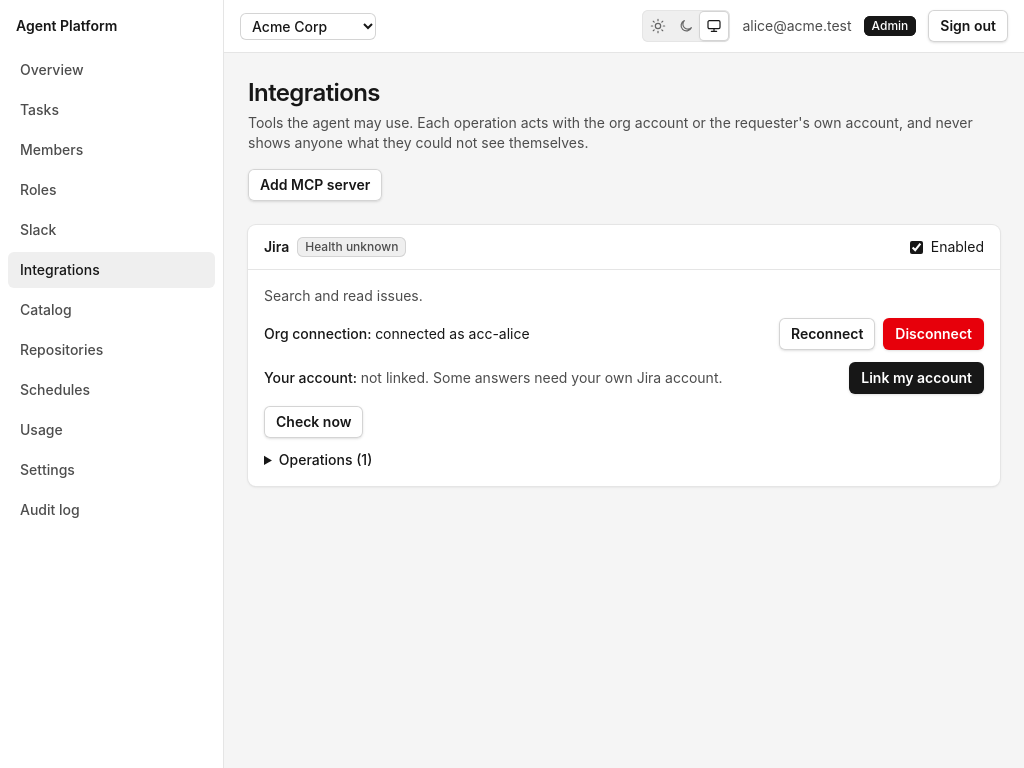
Test: Integrations page › saves and resets a credential mode override
Click the heading "Operations (1)" at [326, 460], box [279,451,372,468]
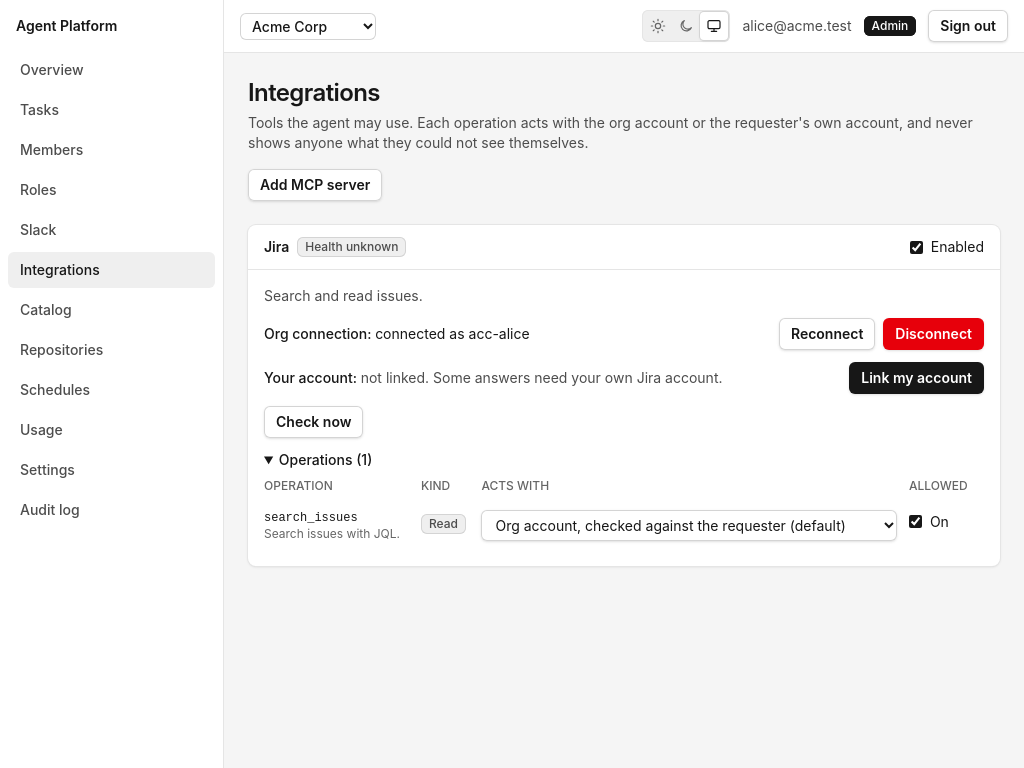
Now the dropdown named "Credential for search_issues" shows "Org account, checked against the requester (default)"
Select "Requester's own account" in the dropdown named "Credential for search_issues" at [689, 526], box [481,510,897,541]
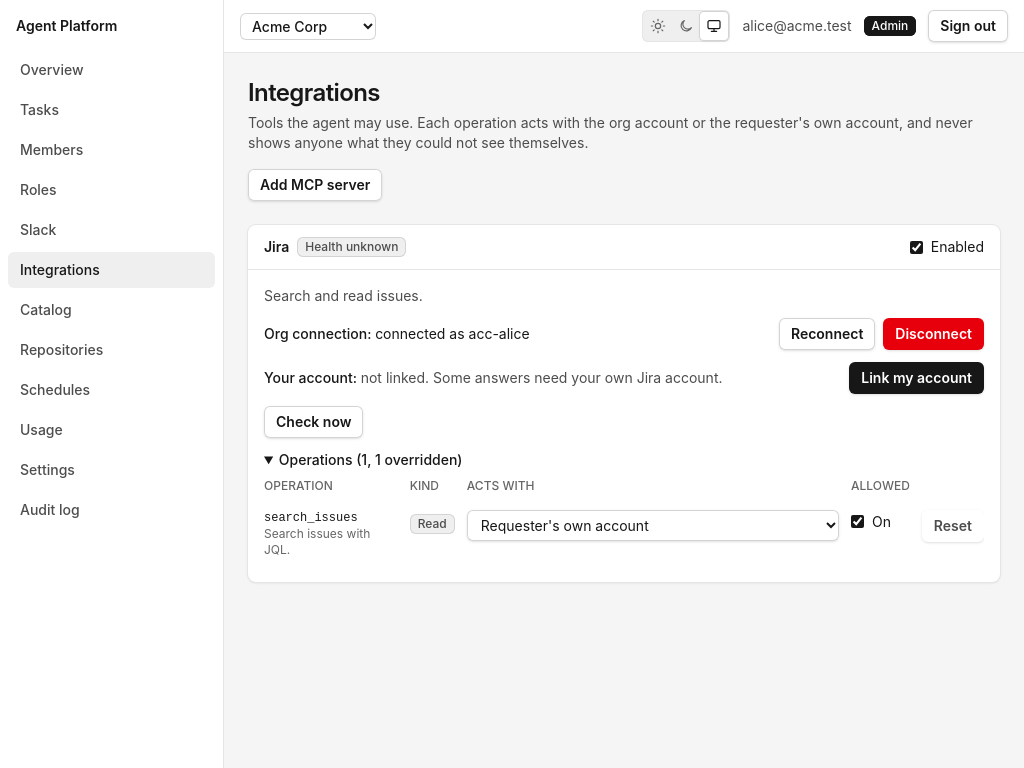
Now the heading "Operations (1, 1 overridden)" is shown, box [279,451,462,468]
Click the checkbox named "Allow search_issues" at [858, 522], box [851,515,864,528]
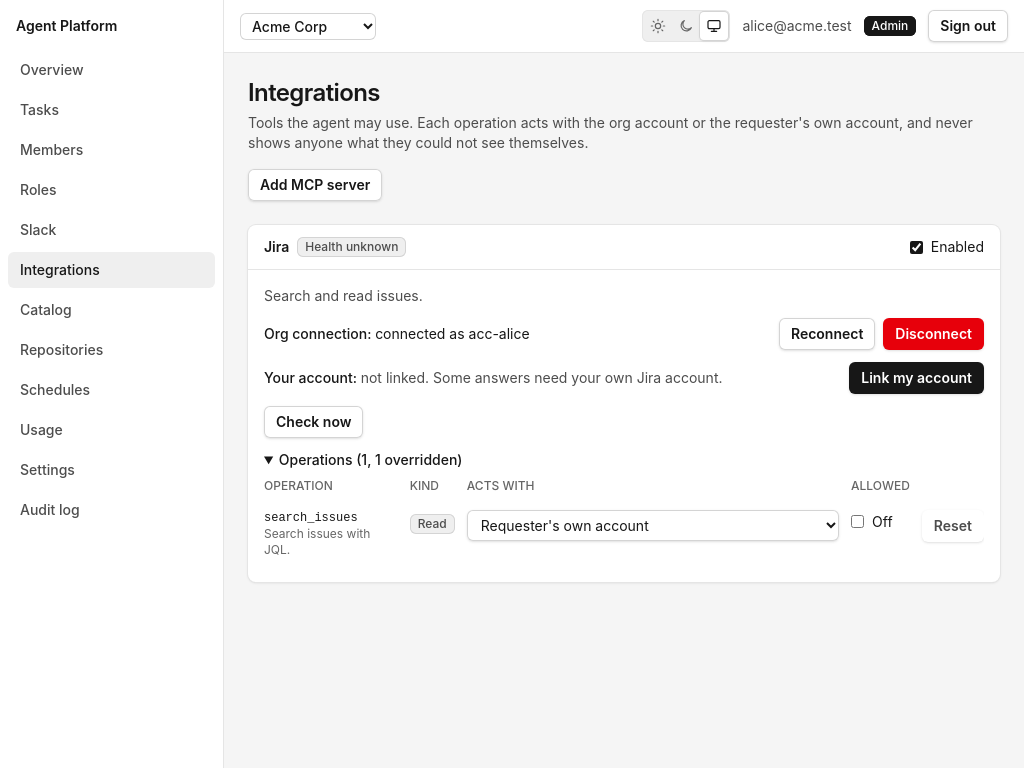
Click the button "Reset" at [953, 526], box [922,510,984,542]
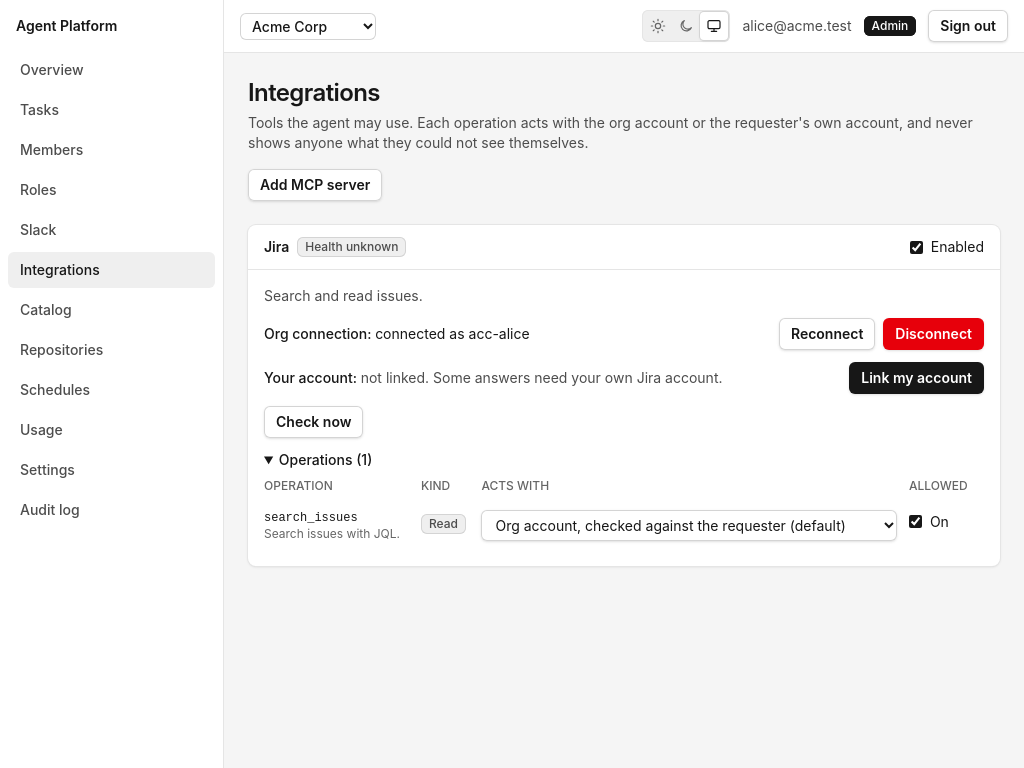
Now the button "Reset" is gone
